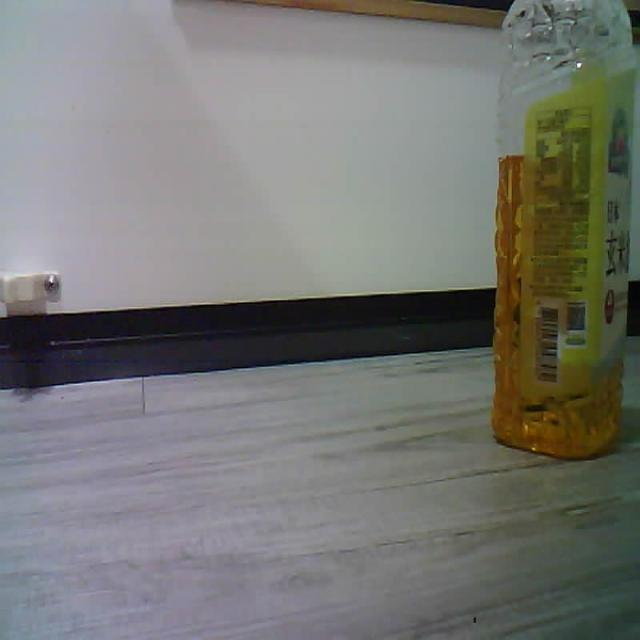bottle: (492, 0, 635, 457)
